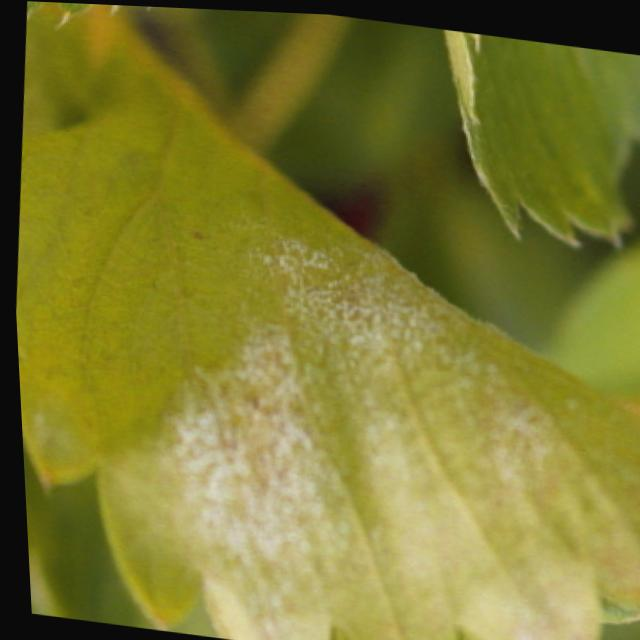Powdery Mildew Leaf: (12, 72, 640, 640)
